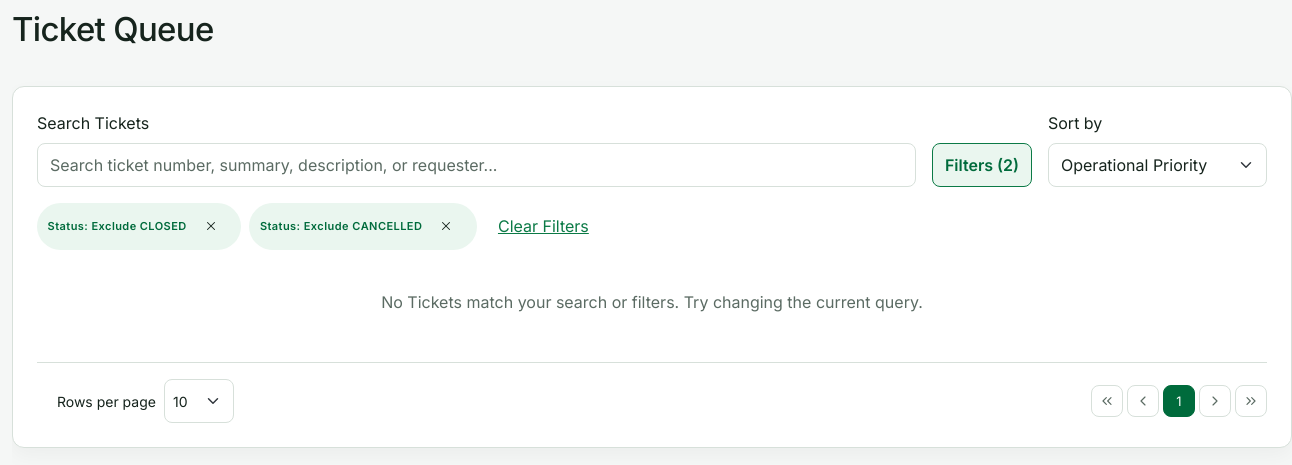
Test: UI-13–14 Queue controls @issue-5 › commits terminal exclusions initially and Clear Filters exposes all
The width and height of the screenshot is (1292, 465).
Check: the text "No Tickets match your search or filters. Try changing the current query." is shown, box [381,292,923,312]
Click the button "Clear Filters".
click(543, 226)  # box [485,204,602,248]
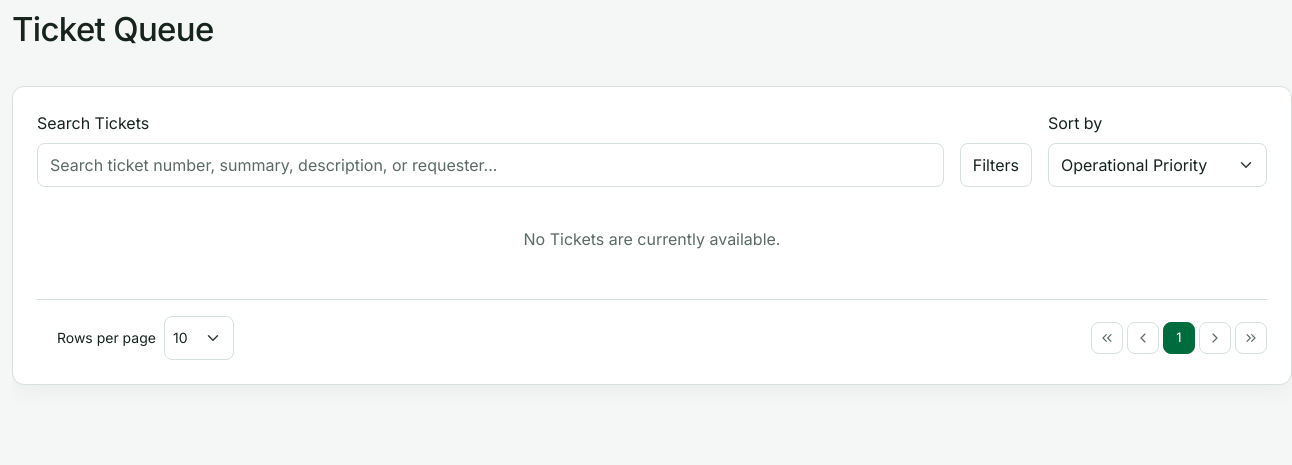
Check: the text "No Tickets are currently available." is shown, box [524,229,780,249]
